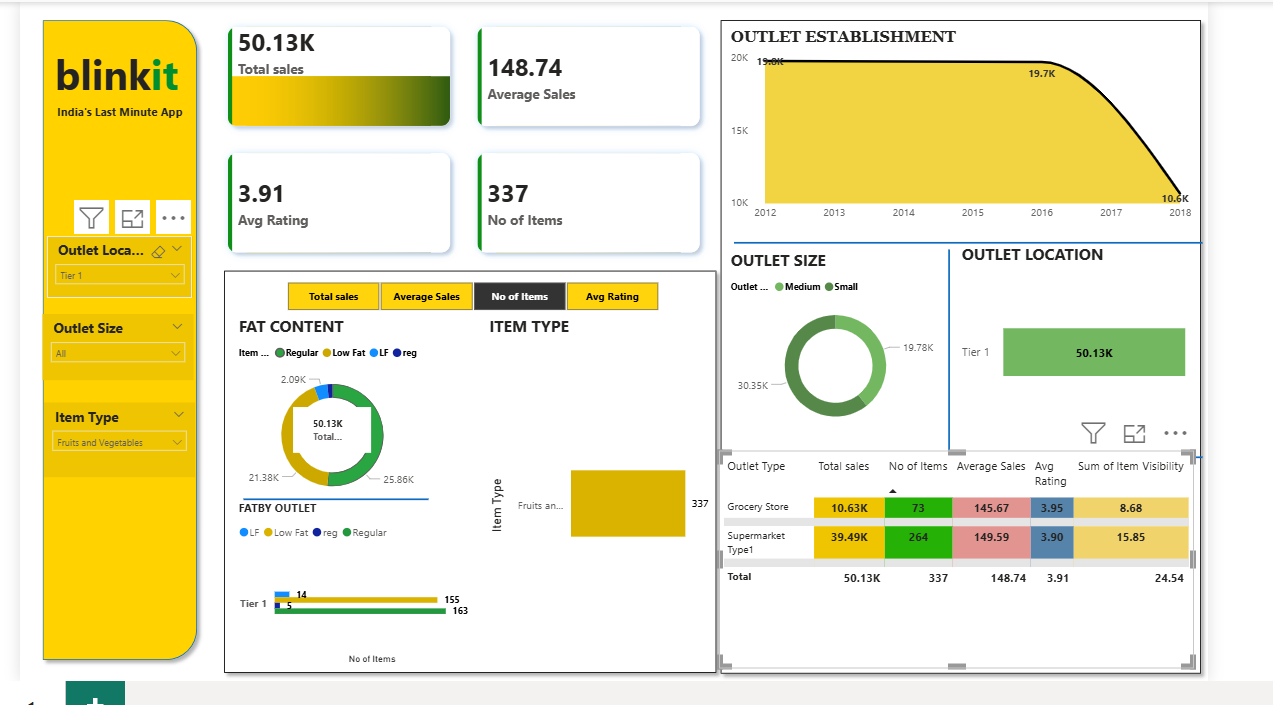

The dashboard page shown, as its layout file describes it:
{"tool":"powerbi","page":{"name":"Page 1","canvas":[1400,800],"ordinal":0},"visuals":[{"type":"shape","box":[18,12,200,772],"z":0},{"type":"textbox","box":[32,46,164,102],"z":1000},{"type":"textbox","box":[32,114,172,64],"z":2000},{"type":"cardVisual","fields":{"Data":["BlinkIT Grocery Data.Total sales","BlinkIT Grocery Data.Average Sales","BlinkIT Grocery Data.Avg Rating","BlinkIT Grocery Data.No of Items","BlinkIT Grocery Data.No of Items"]},"box":[216,0,614,324],"z":3000},{"type":"shape","box":[232,308,598,492],"z":4000},{"type":"donutChart","title":"FAT CONTENT","fields":{"Y":["Sum(BlinkIT Grocery Data.Sales)"],"Category":["BlinkIT Grocery Data.Item Fat Content"]},"box":[252,370,230,230],"z":5000},{"type":"slicer","fields":{"Values":["Matrix.Matrix"]},"box":[290,324,486,46],"z":6000},{"type":"cardVisual","fields":{"Data":["BlinkIT Grocery Data.Total sales"]},"box":[316,472,102,64],"z":7000},{"type":"clusteredBarChart","title":"FATBY OUTLET","fields":{"Y":["BlinkIT Grocery Data.No of Items"],"Category":["BlinkIT Grocery Data.Outlet Location Type"],"Series":["BlinkIT Grocery Data.Item Fat Content"]},"box":[252,586,282,198],"z":8000},{"type":"barChart","title":"ITEM TYPE","fields":{"Y":["BlinkIT Grocery Data.No of Items"],"Category":["BlinkIT Grocery Data.Item Type"]},"box":[548,370,268,414],"z":9000},{"type":"shape","box":[816,12,584,788],"z":10000},{"type":"lineChart","title":"OUTLET ESTABLISHMENT","fields":{"Y":["BlinkIT Grocery Data.Total sales"],"Category":["BlinkIT Grocery Data.Outlet Establishment Year"]},"box":[832,30,552,236],"z":11000},{"type":"shape","box":[264,578,218,16],"z":12000},{"type":"shape","box":[830,528,552,16],"z":13000},{"type":"donutChart","title":"OUTLET SIZE","fields":{"Series":["BlinkIT Grocery Data.Outlet Size"],"Y":["Sum(BlinkIT Grocery Data.Sales)"]},"box":[832,292,256,222],"z":14000},{"type":"shape","box":[1088,292,12,236],"z":15000},{"type":"funnel","title":"OUTLET LOCATION","fields":{"Y":["Sum(BlinkIT Grocery Data.Sales)"],"Category":["BlinkIT Grocery Data.Outlet Location Type"]},"box":[1104,284,278,230],"z":16000},{"type":"shape","box":[842,528,552,16],"z":17000},{"type":"pivotTable","fields":{"Values":["BlinkIT Grocery Data.Total sales","BlinkIT Grocery Data.No of Items","BlinkIT Grocery Data.Average Sales","BlinkIT Grocery Data.Avg Rating","Sum(BlinkIT Grocery Data.Item Visibility)"],"Rows":["BlinkIT Grocery Data.Outlet Type"]},"box":[824,528,560,256],"z":18000},{"type":"shape","box":[842,276,552,16],"z":19000},{"type":"slicer","fields":{"Values":["BlinkIT Grocery Data.Outlet Location Type"]},"box":[32,276,172,72],"z":20000},{"type":"slicer","title":"OUTLET SIZE","fields":{"Values":["BlinkIT Grocery Data.Outlet Size"]},"box":[26,368,178,78],"z":21000},{"type":"slicer","fields":{"Values":["BlinkIT Grocery Data.Item Type"]},"box":[28,472,178,88],"z":22000}]}

Visuals, with their boxes in screenshot pixels (x1, y1, x2, y2):
shape: {"x1": 38, "y1": 20, "x2": 206, "y2": 668}
textbox: {"x1": 50, "y1": 49, "x2": 188, "y2": 134}
textbox: {"x1": 50, "y1": 106, "x2": 194, "y2": 159}
cardVisual - BlinkIT Grocery Data.Total sales x BlinkIT Grocery Data.Average Sales: {"x1": 205, "y1": 10, "x2": 720, "y2": 282}
shape: {"x1": 218, "y1": 269, "x2": 720, "y2": 682}
"FAT CONTENT" donutChart: {"x1": 235, "y1": 321, "x2": 428, "y2": 514}
slicer - Matrix.Matrix: {"x1": 267, "y1": 282, "x2": 675, "y2": 321}
cardVisual - BlinkIT Grocery Data.Total sales: {"x1": 289, "y1": 406, "x2": 374, "y2": 460}
"FATBY OUTLET" clusteredBarChart: {"x1": 235, "y1": 502, "x2": 472, "y2": 668}
"ITEM TYPE" barChart: {"x1": 483, "y1": 321, "x2": 708, "y2": 668}
shape: {"x1": 708, "y1": 20, "x2": 1199, "y2": 682}
"OUTLET ESTABLISHMENT" lineChart: {"x1": 722, "y1": 35, "x2": 1185, "y2": 233}
shape: {"x1": 245, "y1": 495, "x2": 428, "y2": 509}
shape: {"x1": 720, "y1": 453, "x2": 1184, "y2": 467}
"OUTLET SIZE" donutChart: {"x1": 722, "y1": 255, "x2": 937, "y2": 441}
shape: {"x1": 937, "y1": 255, "x2": 947, "y2": 453}
"OUTLET LOCATION" funnel: {"x1": 950, "y1": 248, "x2": 1184, "y2": 441}
shape: {"x1": 730, "y1": 453, "x2": 1194, "y2": 467}
pivotTable - BlinkIT Grocery Data.Total sales x BlinkIT Grocery Data.No of Items: {"x1": 715, "y1": 453, "x2": 1185, "y2": 668}
shape: {"x1": 730, "y1": 242, "x2": 1194, "y2": 255}
slicer - BlinkIT Grocery Data.Outlet Location Type: {"x1": 50, "y1": 242, "x2": 194, "y2": 302}
"OUTLET SIZE" slicer: {"x1": 45, "y1": 319, "x2": 194, "y2": 384}
slicer - BlinkIT Grocery Data.Item Type: {"x1": 47, "y1": 406, "x2": 196, "y2": 480}
